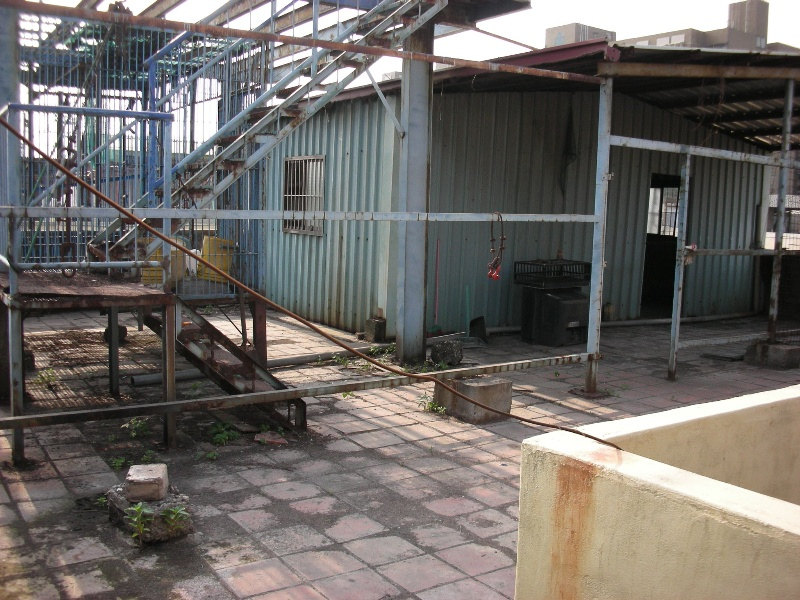bucket: (198, 235, 235, 284)
